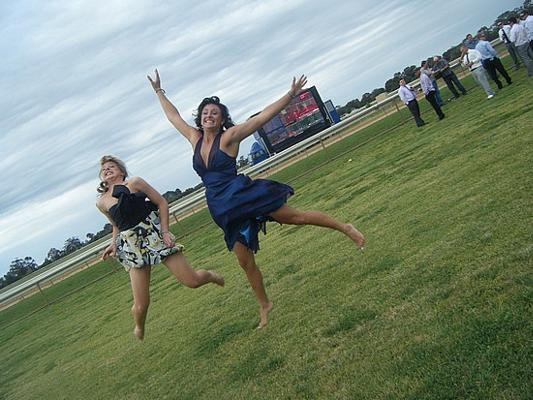person: (97, 154, 226, 343)
